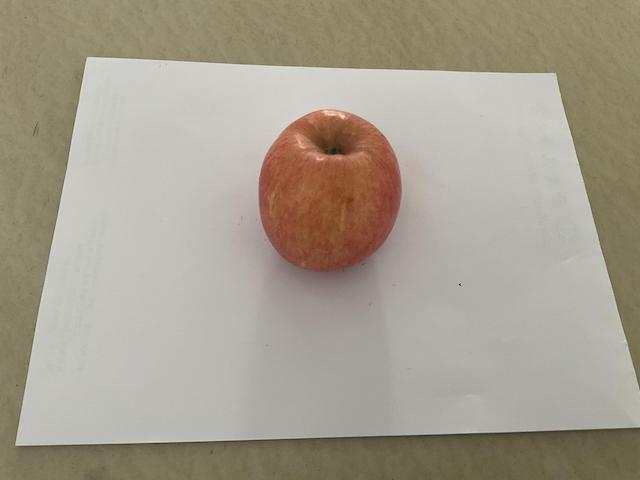apple: (254, 105, 406, 279)
